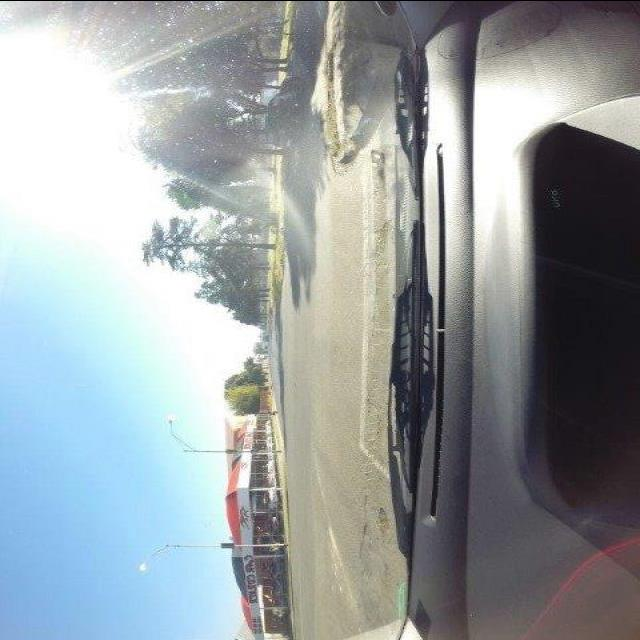lubang: (370, 497, 394, 552), (369, 217, 392, 270), (378, 562, 398, 610), (356, 522, 374, 572)
